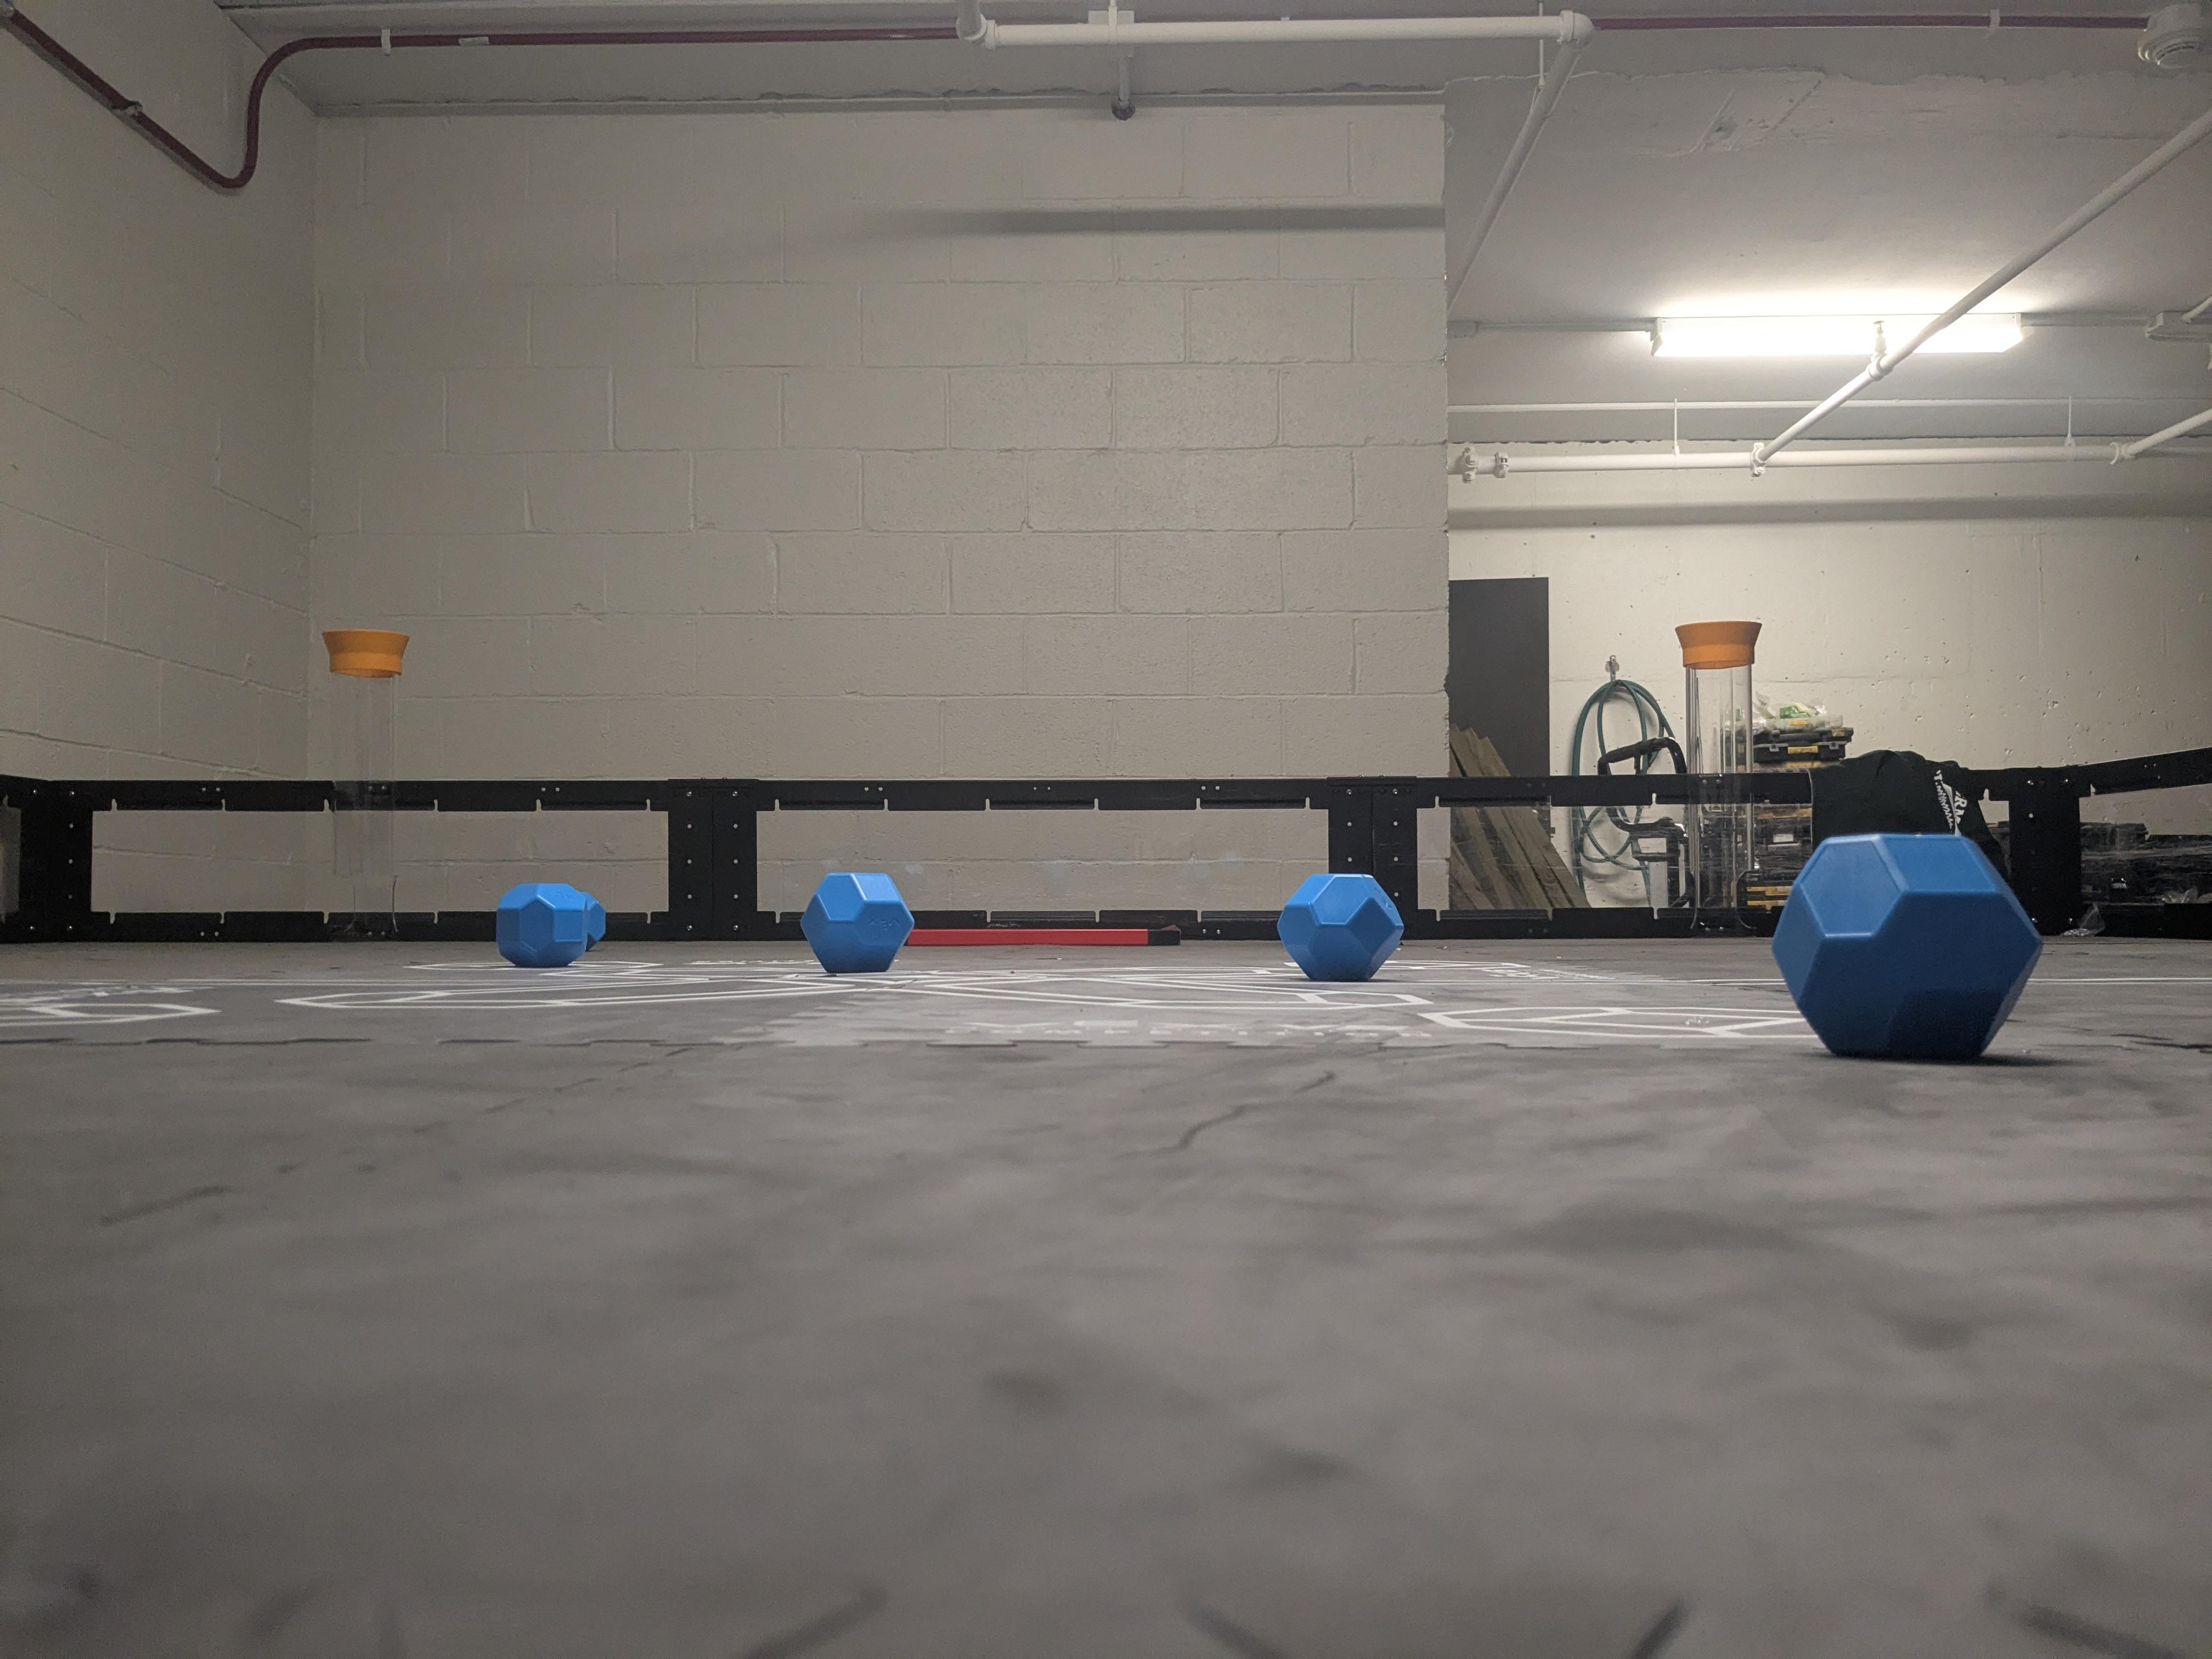Vex-Pieces-BLUE: (1773, 836, 2040, 1058), (1282, 873, 1406, 979), (805, 873, 907, 972), (496, 884, 604, 964)
